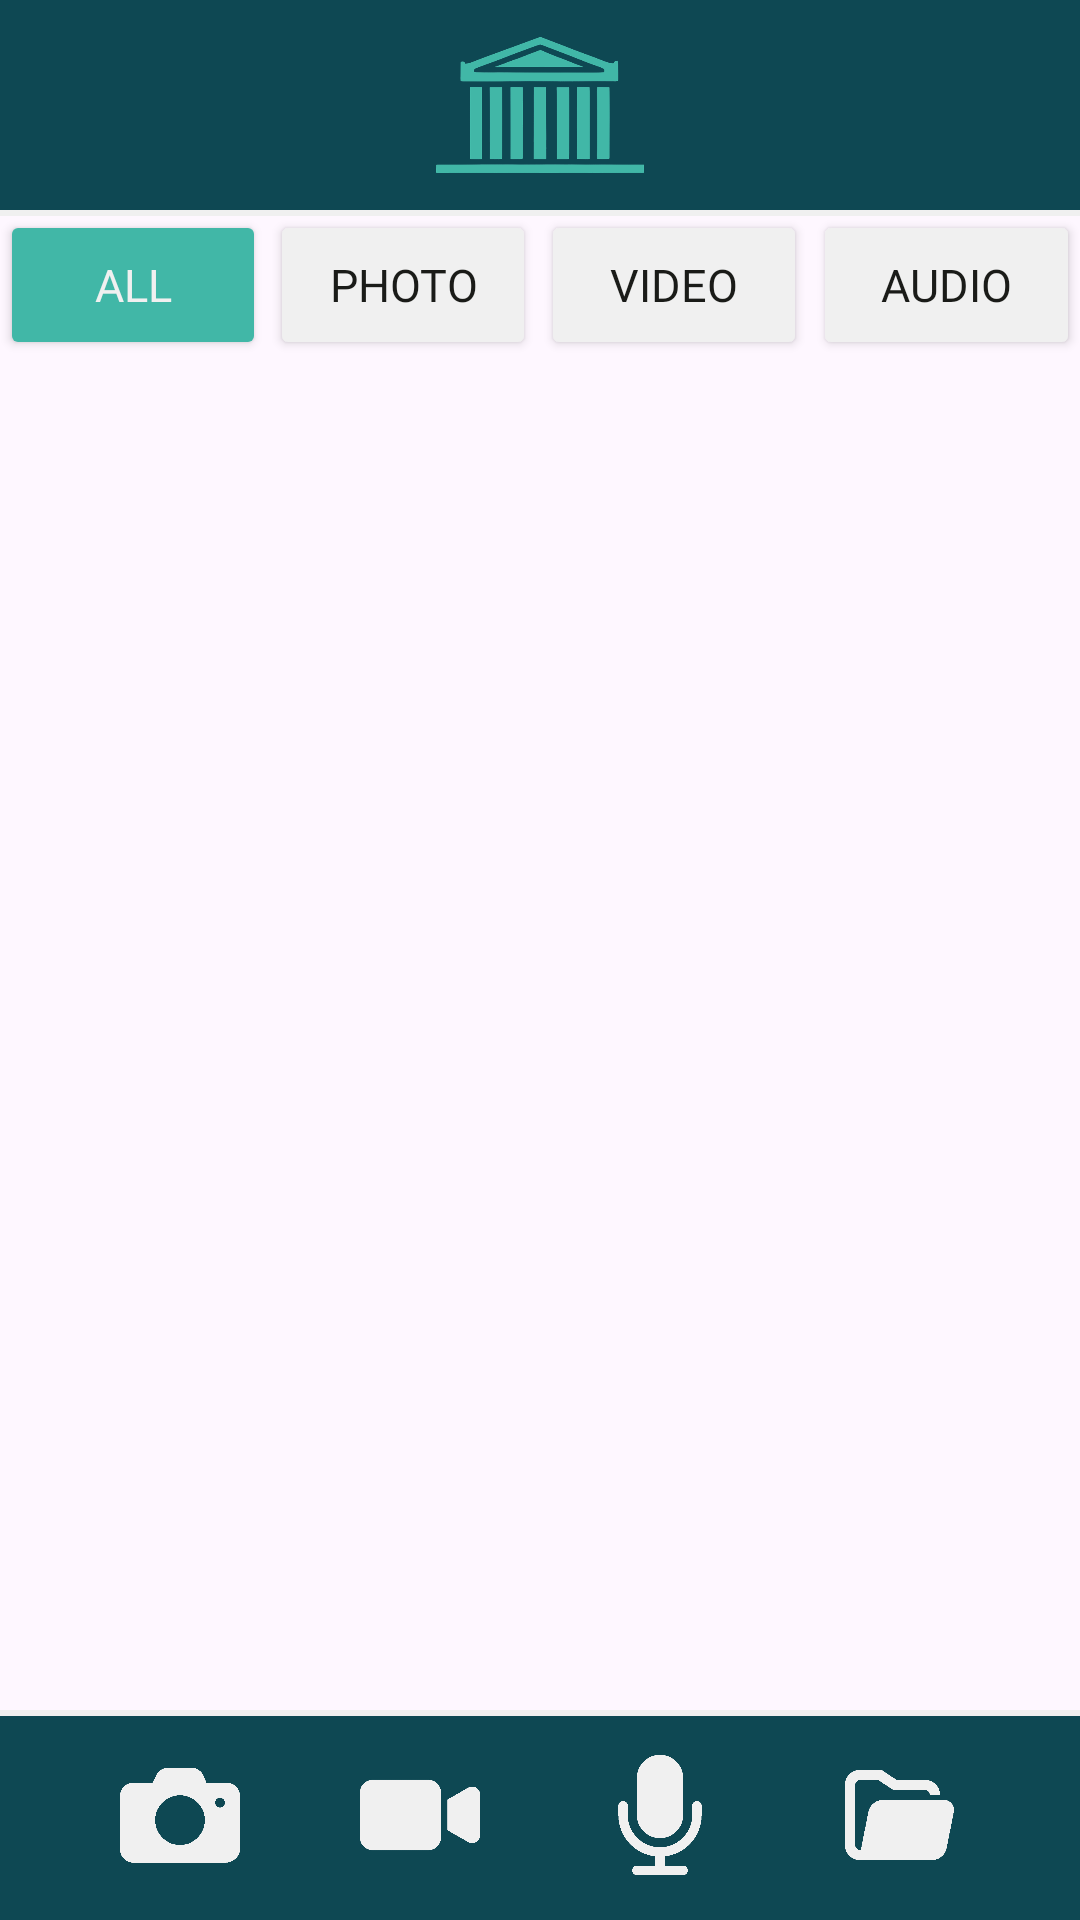

Icon click points for this 1080px×1920px phone screenshot, format point (x, y):
audio: point (660, 1815)
file: point (899, 1815)
photo: point (180, 1815)
video: point (420, 1815)
